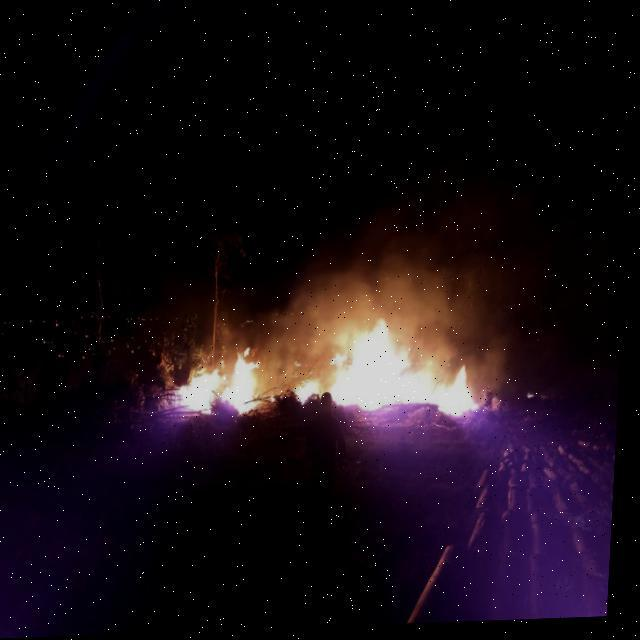Fire: (284, 316, 487, 429), (176, 344, 266, 417)
